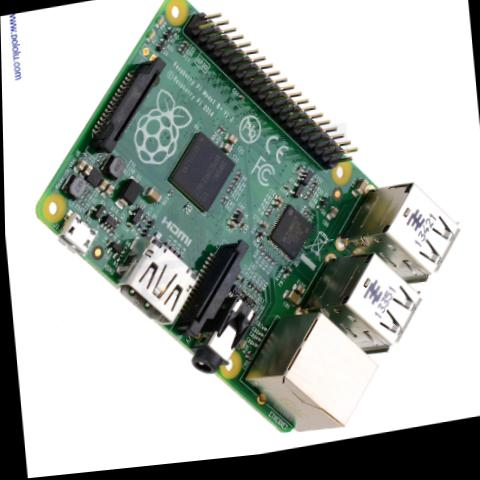Raspberry-Pi-1-Model-B-: (13, 0, 478, 479)
